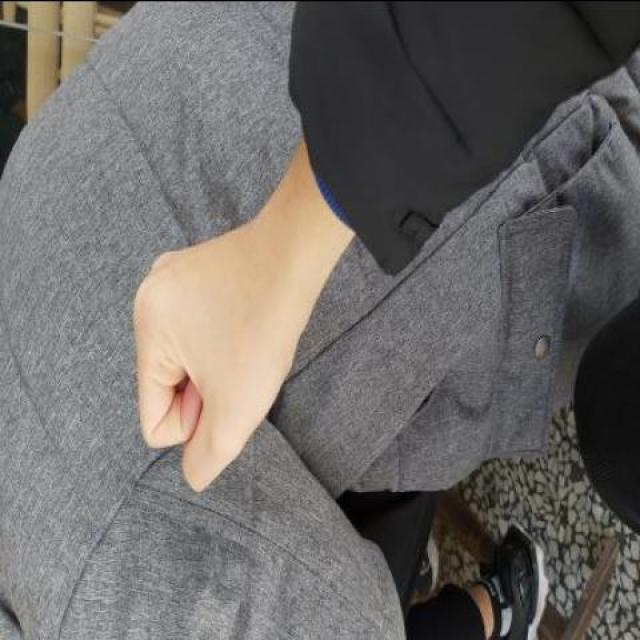Closed Hand: (122, 218, 335, 506)
